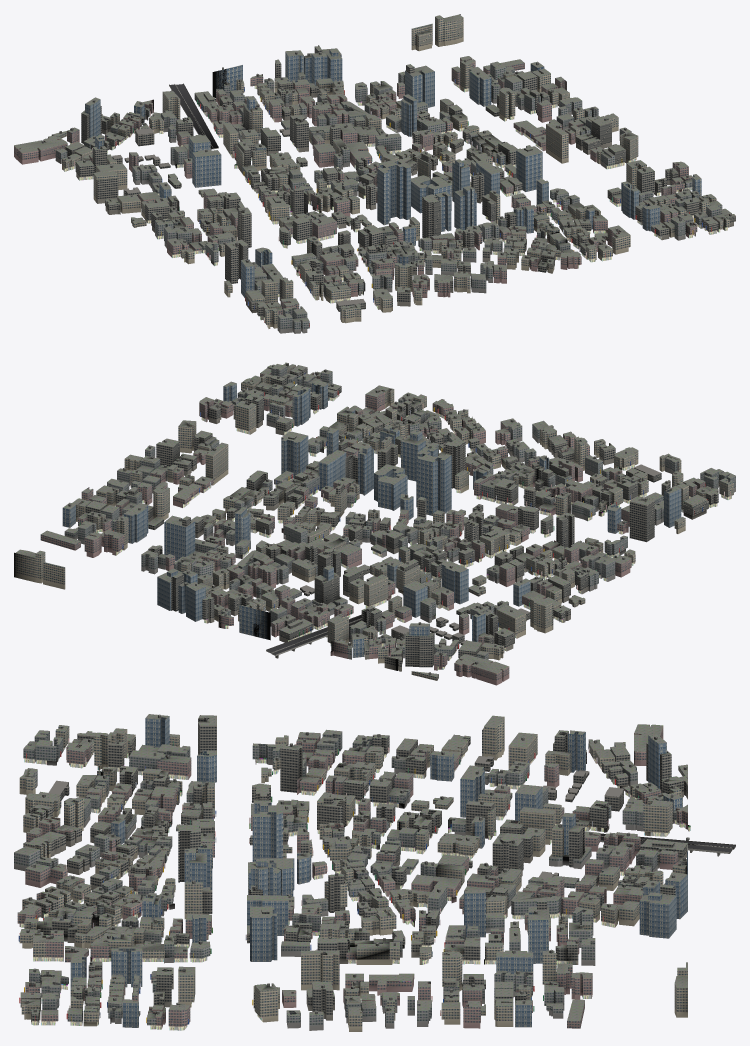
3 views of the same model, one above another, from view 1: azimuth 30°, elevation 25°; view 2: azimuth 150°, elevation 25°; view 3: azimuth 270°, elevation 25° (orthographic). The views are drawn at different scales.
Parts seen in each view (by area): view 1: buildings_roof, buildings_facade_concrete, buildings_facade_mosaic_cream, buildings_facade_glass, buildings_facade_mosaic_grey, buildings_facade_mosaic_pink, buildings_storefront, buildings_signboards, bridges_deck, landmarks_facade_concrete, landmarks_roof; view 2: buildings_roof, buildings_facade_concrete, buildings_facade_mosaic_cream, buildings_facade_glass, buildings_facade_mosaic_pink, buildings_facade_mosaic_grey, buildings_storefront, buildings_signboards, landmarks_roof, landmarks_facade_concrete, bridges_deck; view 3: buildings_roof, buildings_facade_mosaic_cream, buildings_facade_concrete, buildings_facade_glass, buildings_facade_mosaic_grey, buildings_facade_mosaic_pink, buildings_storefront, buildings_signboards, landmarks_roof, landmarks_facade_concrete.
Part boxes in pixels (x1,y1,x2,y2): buildings_roof: [14, 14, 735, 321]; buildings_facade_concrete: [41, 31, 735, 320]; buildings_facade_mosaic_cream: [51, 14, 729, 328]; buildings_facade_glass: [85, 49, 701, 297]; buildings_facade_mosaic_grey: [55, 63, 722, 333]; buildings_facade_mosaic_pink: [14, 58, 731, 314]; buildings_storefront: [64, 80, 727, 328]; buildings_signboards: [68, 76, 711, 326]; bridges_deck: [170, 84, 218, 148]; landmarks_facade_concrete: [112, 129, 365, 311]; landmarks_roof: [112, 128, 365, 305]; buildings_roof: [16, 362, 735, 677]; buildings_facade_concrete: [68, 363, 718, 675]; buildings_facade_mosaic_cream: [14, 365, 733, 680]; buildings_facade_glass: [62, 383, 681, 657]; buildings_facade_mosaic_pink: [40, 373, 711, 685]; buildings_facade_mosaic_grey: [64, 366, 735, 660]; buildings_storefront: [96, 383, 731, 670]; buildings_signboards: [79, 372, 730, 650]; landmarks_roof: [300, 464, 660, 643]; landmarks_facade_concrete: [300, 467, 661, 645]; bridges_deck: [266, 615, 361, 654]; buildings_roof: [14, 714, 687, 1021]; buildings_facade_mosaic_cream: [19, 718, 687, 1031]; buildings_facade_concrete: [20, 714, 689, 1024]; buildings_facade_glass: [70, 716, 687, 1027]; buildings_facade_mosaic_grey: [14, 731, 686, 1030]; buildings_facade_mosaic_pink: [17, 725, 687, 1028]; buildings_storefront: [20, 746, 690, 1030]; buildings_signboards: [18, 738, 638, 1025]; landmarks_roof: [48, 756, 623, 879]; landmarks_facade_concrete: [60, 757, 623, 879].
Bounding box in the file's own units: 738 × 78.37 × 765.
11 materials, 8 textured.
